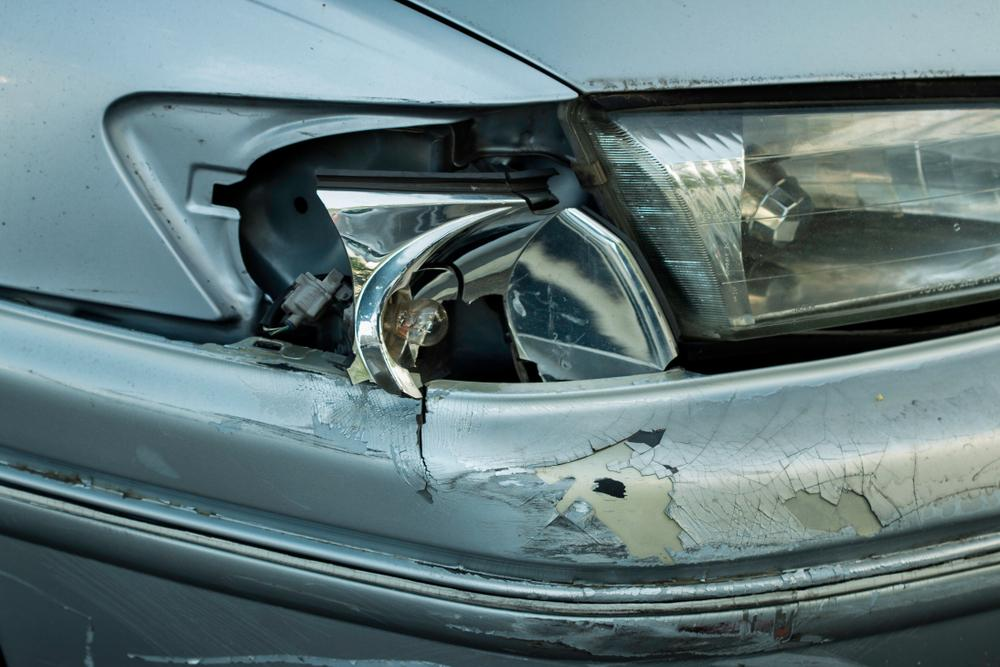crack: (418, 385, 439, 484)
lamp broken: (340, 192, 681, 383)
scratch: (424, 409, 907, 667), (305, 379, 430, 491), (112, 641, 463, 667)
